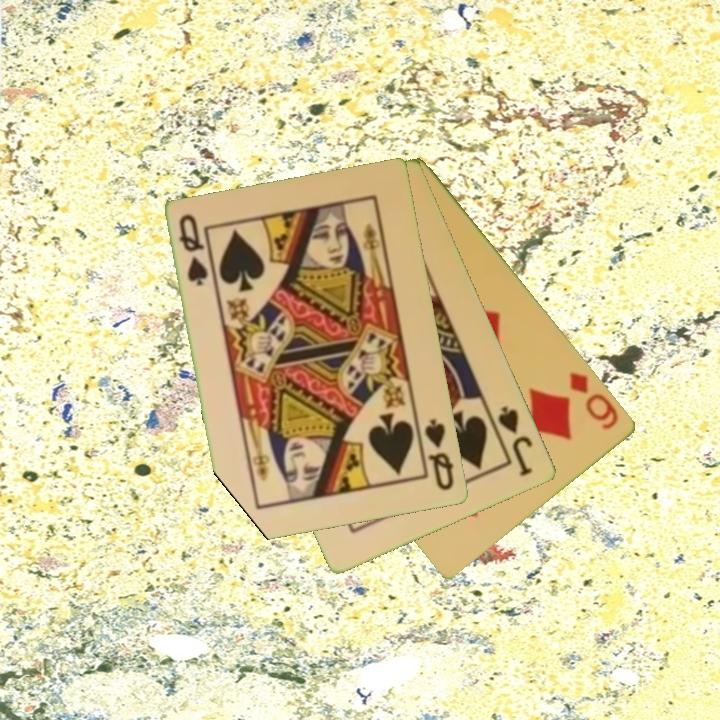6d: (566, 368, 622, 433)
Js: (495, 402, 536, 479)
Qs: (176, 211, 212, 290), (421, 416, 457, 494)
